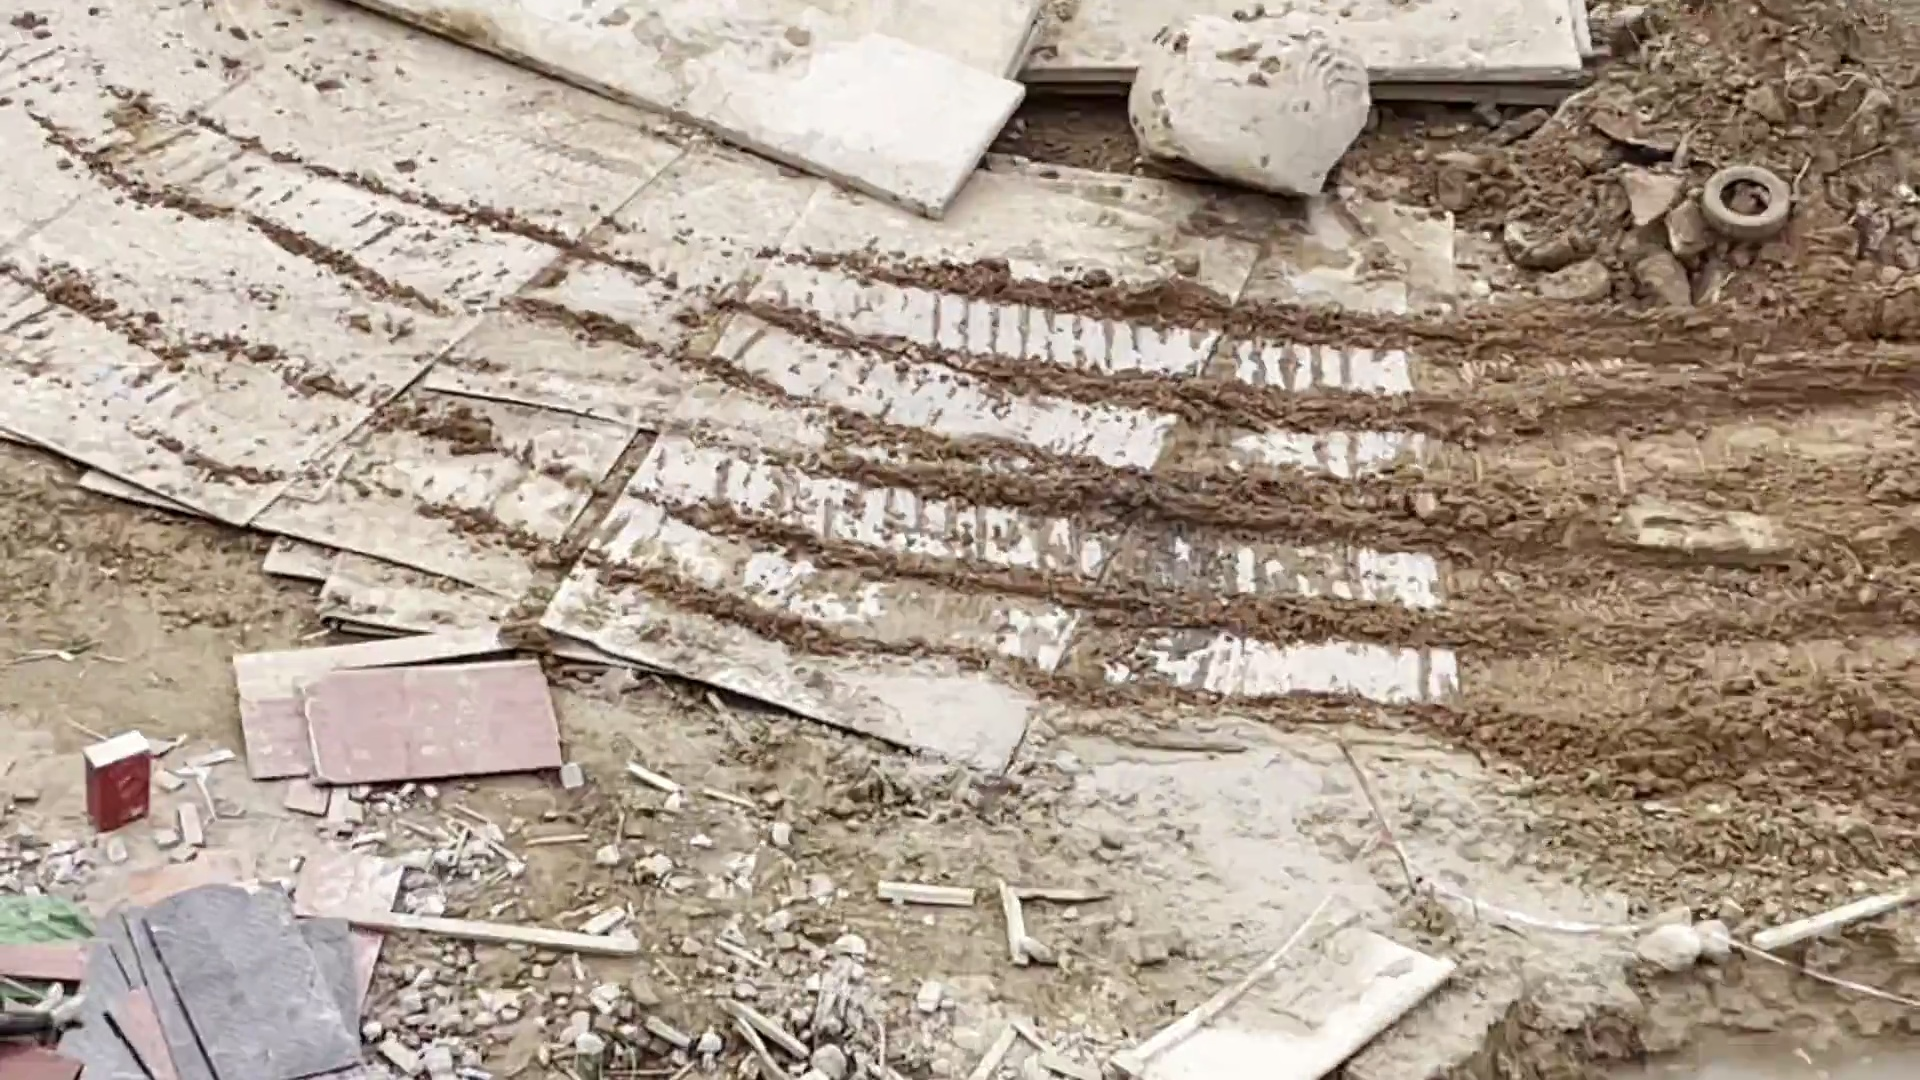board: (86, 870, 360, 1073)
